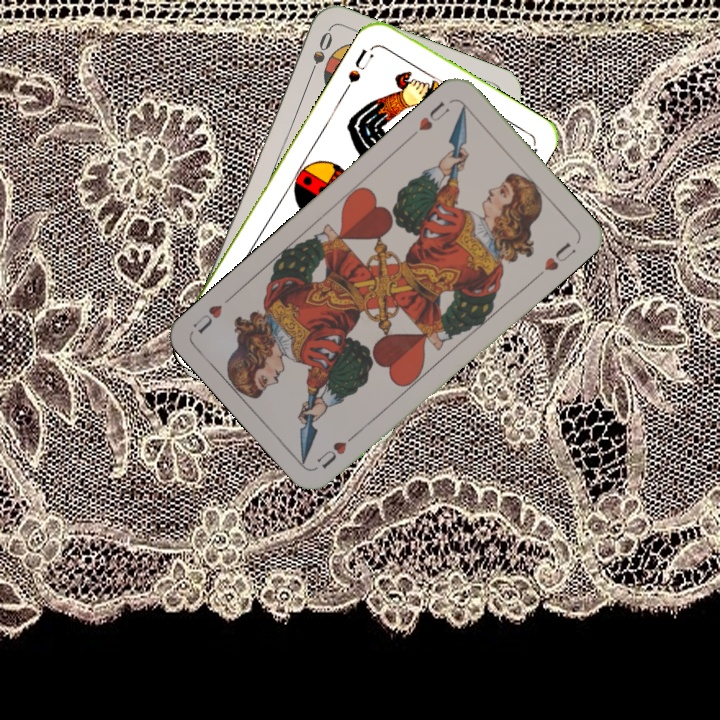HU: (312, 427, 361, 471), (414, 97, 452, 134)
SO: (304, 27, 336, 84)
SU: (340, 44, 376, 95)
